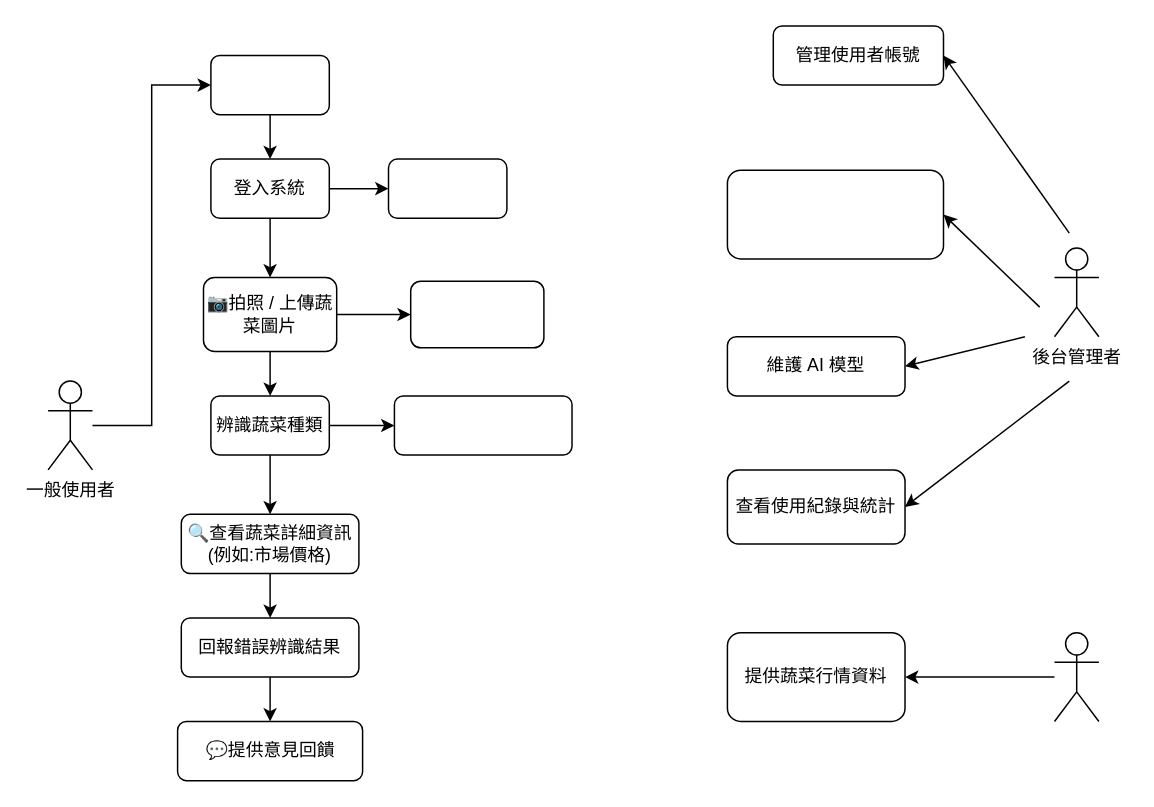
This 1154x807 diagram has some shape labels left out. Here are the shapes that lost their labels. From the top down, the centre of each, then its label:
At pixel 269 84: "👤註冊帳號".
At pixel 447 188: "登出系統".
At pixel 835 214: "新增 / 修改蔬菜資料 (例如:相關食譜、營養價值)".
At pixel 476 314: "❤️收藏蔬菜".
At pixel 482 424: "📜查看歷史辨識紀錄".
At pixel 1076 676: "外部資料來源".
